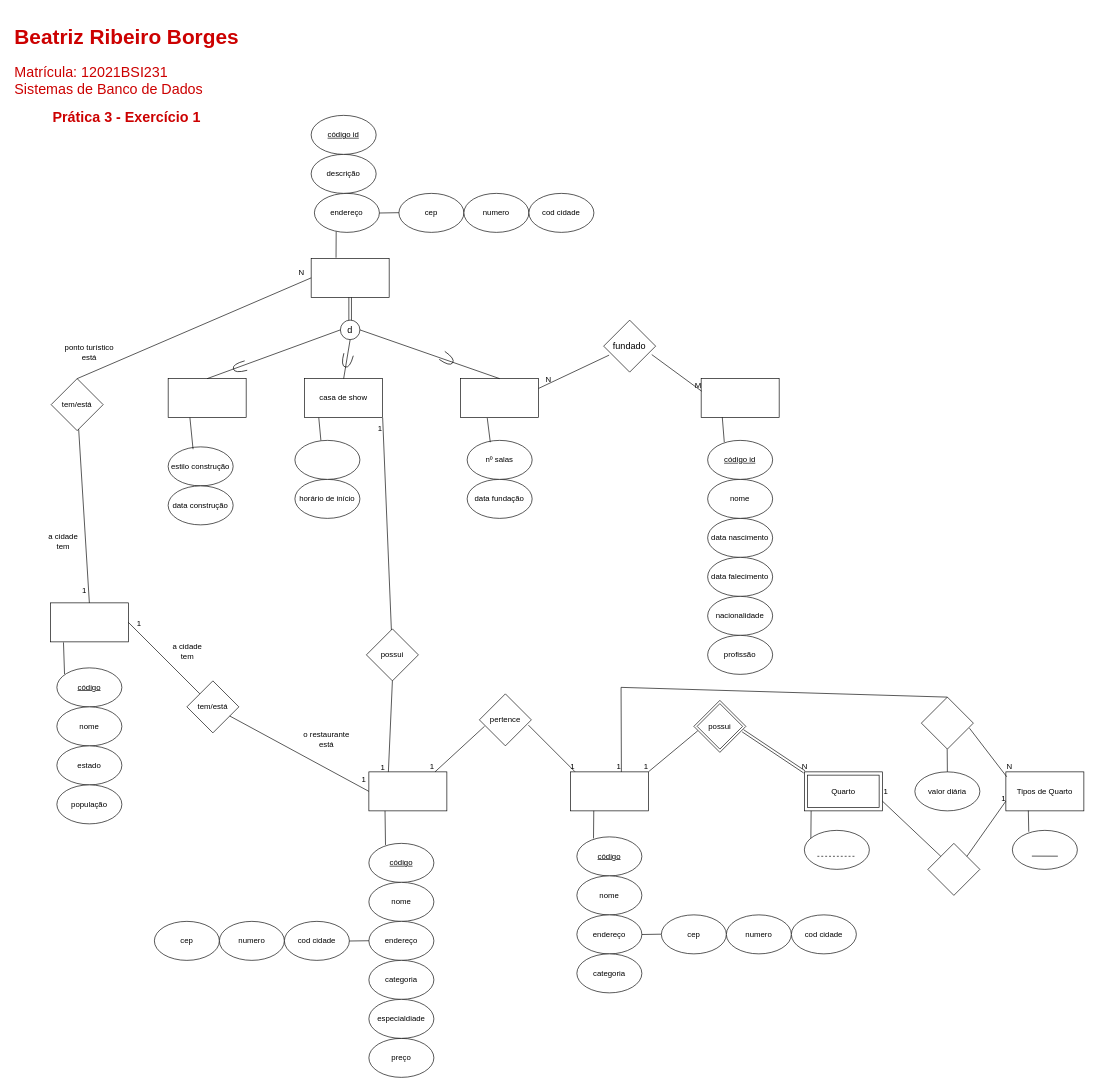
Some shapes in this 1095 by 1089 pixel diagram are drawn without their labels. Here are the shapes that lost their labels. From the top down, the centre of each, then its label:
point (350, 277): Ponto Turístico
point (207, 398): igreja
point (499, 398): museu
point (740, 398): fundador
point (327, 459): dia de fechamento
point (89, 622): Cidade
point (947, 722): tem
point (407, 791): Restaurante
point (609, 791): Hotel
point (836, 849): nº quarto
point (953, 869): há
point (1044, 849): tipo
